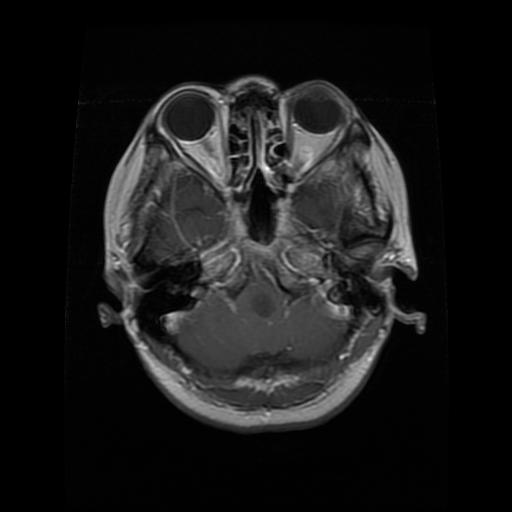Gliomia_tumour: (248, 289, 276, 318)
